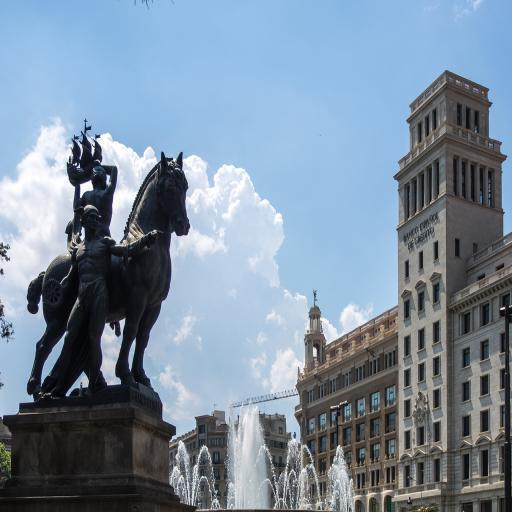horse: (24, 146, 191, 402)
